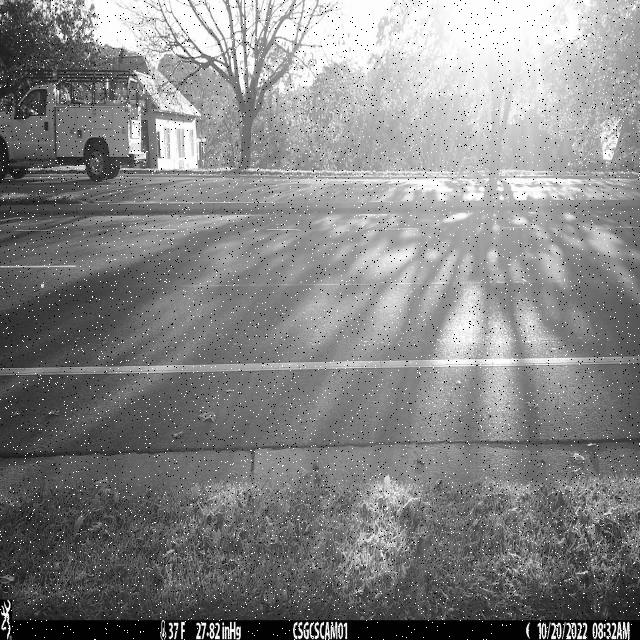Pickup- Utility: (0, 85, 146, 182)
